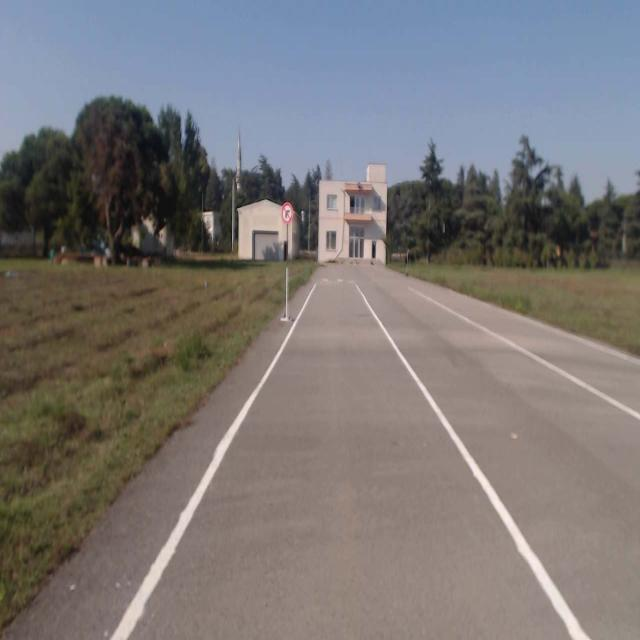sagadonulmez: (281, 203, 293, 224)
